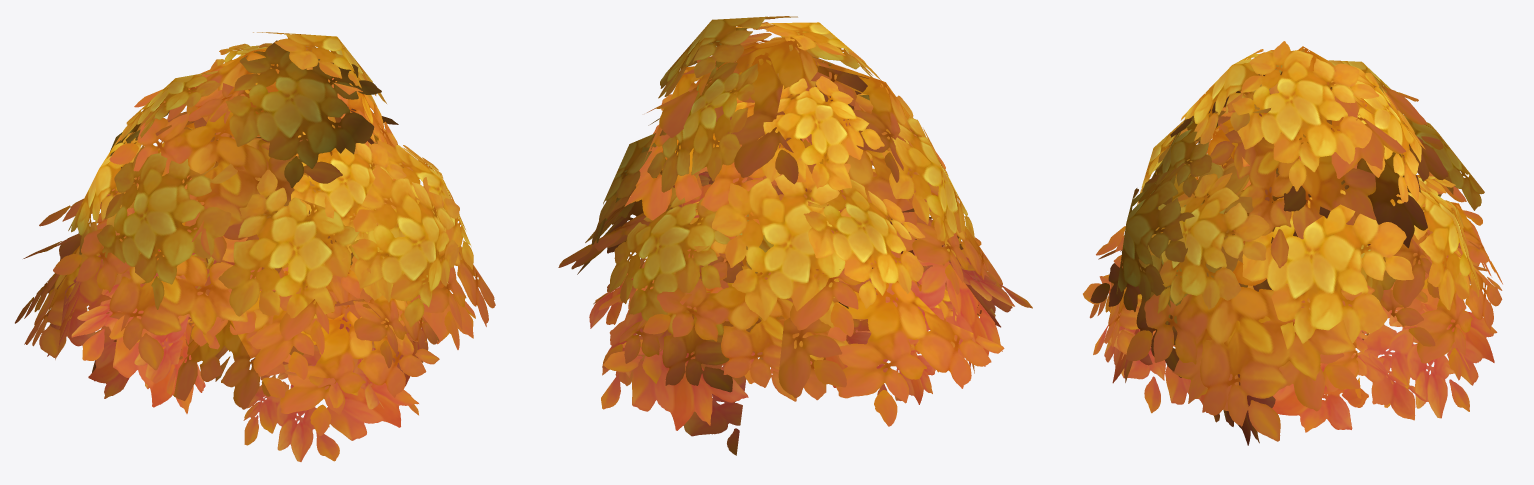
Rendered from Tyj_cdM_15.fbx.
The picture shows the model from 3 angles, left to right: view 1: azimuth 30°, elevation 25°; view 2: azimuth 150°, elevation 25°; view 3: azimuth 270°, elevation 25°; orthographic projection. The views are drawn at different scales.
Parts seen in each view (by area): view 1: Tyj_cdM_15; view 2: Tyj_cdM_15; view 3: Tyj_cdM_15.
Part boxes in pixels (x1,y1,x2,y2): Tyj_cdM_15: (15, 32, 495, 461); Tyj_cdM_15: (558, 16, 1032, 455); Tyj_cdM_15: (1083, 41, 1502, 445).
Size of the model in its own units: 2241 by 1737 by 1902.
